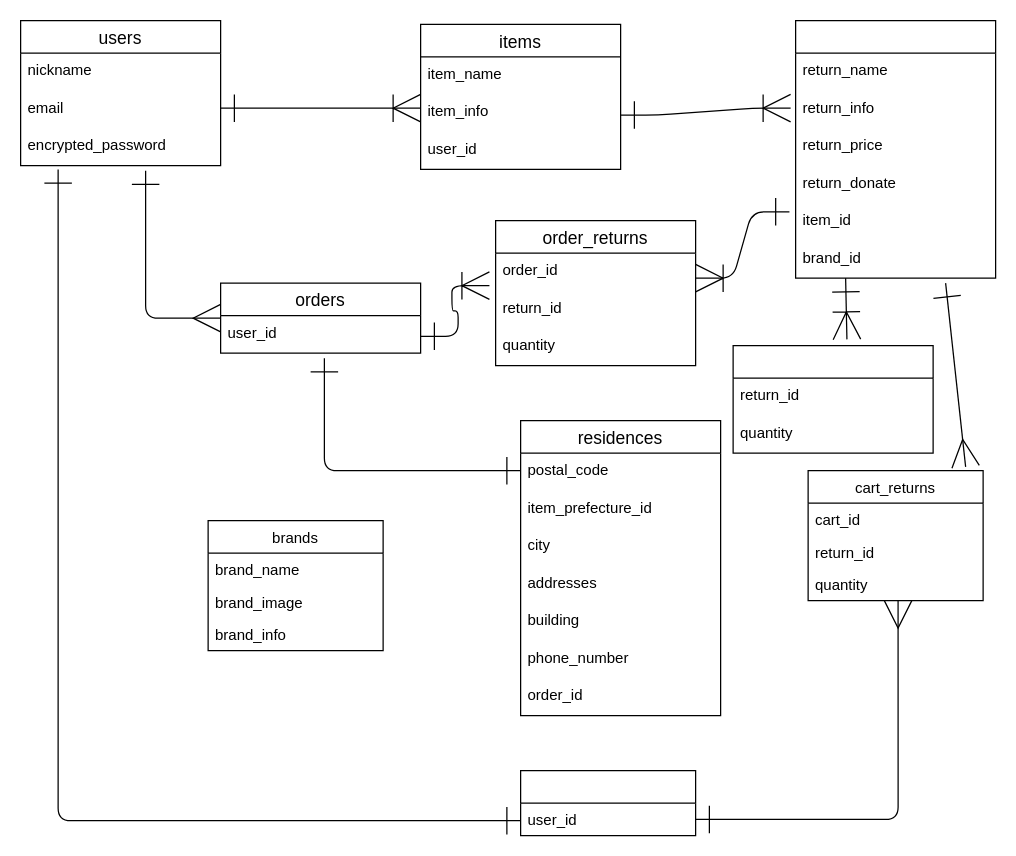
Some shapes in this 1016 by 856 pixel diagram are drawn without their labels. Each missing label, with the box of its shape:
buys: (732, 344, 933, 453)
carts: (519, 769, 696, 836)
returns: (794, 19, 996, 278)
